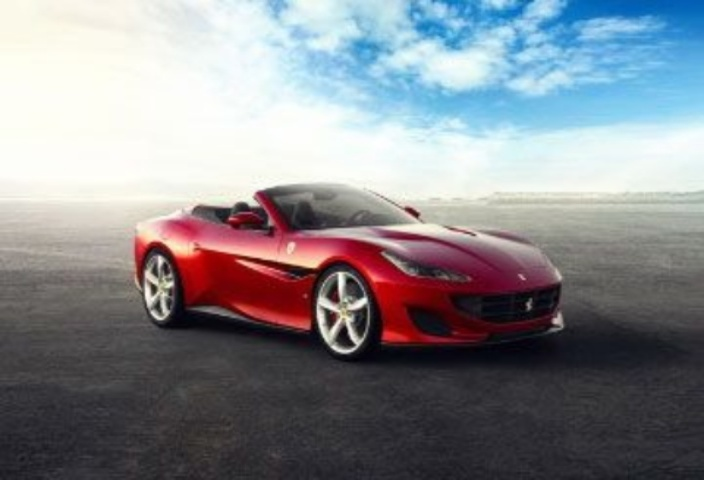car: (114, 175, 610, 351)
